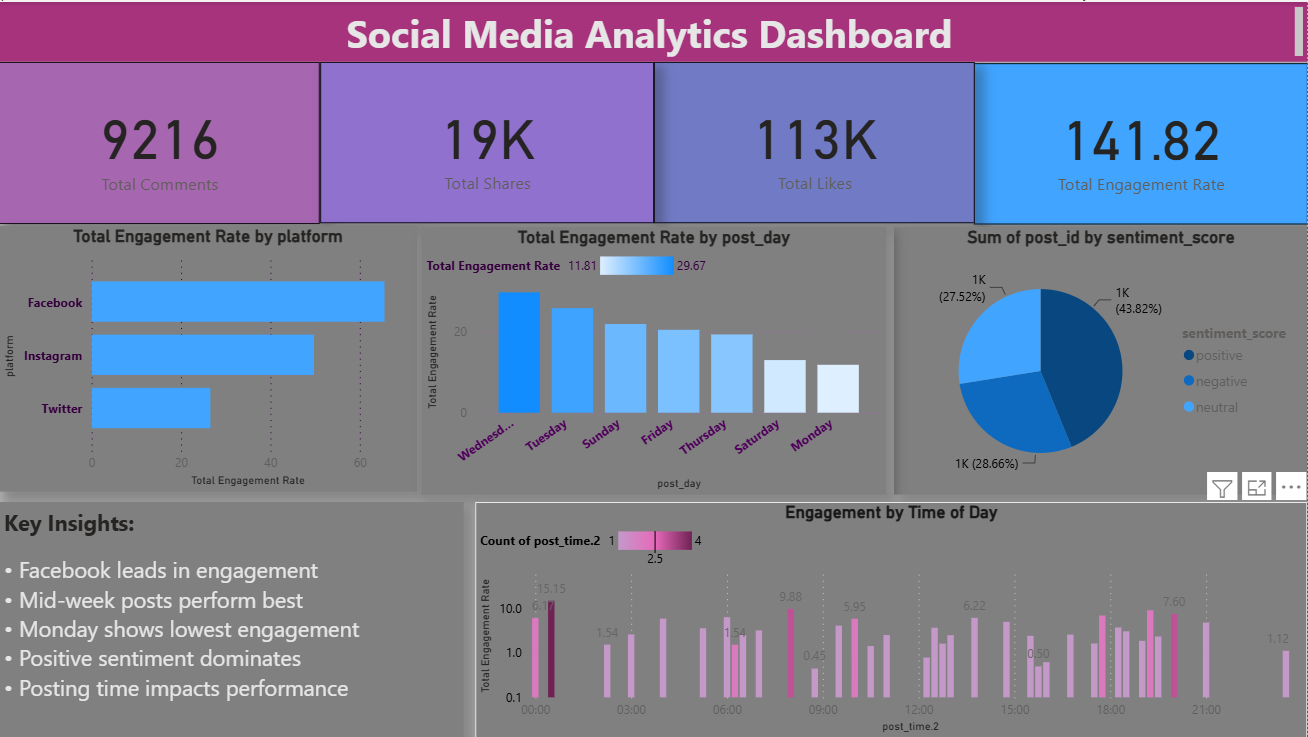

The page's visual inventory and layout, read from the dashboard file:
{"tool":"powerbi","page":{"name":"Page 1","canvas":[1280,720],"ordinal":0},"visuals":[{"type":"card","title":"Total Comments","fields":{"Values":["social_media_engagement1 (2).Total Comments"]},"box":[0,58.8,313.8,158.8],"z":0},{"type":"card","fields":{"Values":["social_media_engagement1 (2).Total Engagement Rate"]},"box":[953.8,60,326.2,157.5],"z":1000},{"type":"card","fields":{"Values":["social_media_engagement1 (2).Total Likes"]},"box":[640,58.8,313.8,157.5],"z":2000},{"type":"card","fields":{"Values":["social_media_engagement1 (2).Total Shares"]},"box":[314.2,58.7,326.4,157.7],"z":3000},{"type":"barChart","fields":{"Category":["social_media_engagement1 (2).platform"],"Y":["social_media_engagement1 (2).Total Engagement Rate"]},"box":[0,218.8,408.8,260],"z":4000},{"type":"pieChart","fields":{"Category":["social_media_engagement1 (2).sentiment_score"],"Y":["Sum(social_media_engagement1 (2).post_id)"]},"box":[875,220,405,261.2],"z":5000},{"type":"columnChart","fields":{"Y":["social_media_engagement1 (2).Total Engagement Rate"],"Category":["social_media_engagement1 (2).post_day"]},"box":[413.2,220,454.7,261.6],"z":6000},{"type":"textbox","box":[0,0,1280,58.8],"z":7000},{"type":"textbox","box":[0,488.5,454.2,231.9],"z":8000},{"type":"clusteredColumnChart","title":"Engagement by Time of Day","fields":{"Category":["social_media_engagement1 (2).post_time.2"],"Y":["social_media_engagement1 (2).Total Engagement Rate"]},"box":[465.7,489,814.1,231],"z":9000}]}

Visuals, with their boxes in screenshot pixels (x1, y1, x2, y2), scaled from the page's 1280x720 canvas onto the 1308x737 screenshot:
"Total Comments" card: [left=0, top=60, right=321, bottom=223]
card - social_media_engagement1 (2).Total Engagement Rate: [left=975, top=61, right=1307, bottom=223]
card - social_media_engagement1 (2).Total Likes: [left=654, top=60, right=975, bottom=221]
card - social_media_engagement1 (2).Total Shares: [left=321, top=60, right=655, bottom=222]
barChart - social_media_engagement1 (2).platform x social_media_engagement1 (2).Total Engagement Rate: [left=0, top=224, right=418, bottom=490]
pieChart - social_media_engagement1 (2).sentiment_score x Sum(social_media_engagement1 (2).post_id): [left=894, top=225, right=1307, bottom=493]
columnChart - social_media_engagement1 (2).Total Engagement Rate x social_media_engagement1 (2).post_day: [left=422, top=225, right=887, bottom=493]
textbox: [left=0, top=0, right=1307, bottom=60]
textbox: [left=0, top=500, right=464, bottom=736]
"Engagement by Time of Day" clusteredColumnChart: [left=476, top=501, right=1307, bottom=736]
